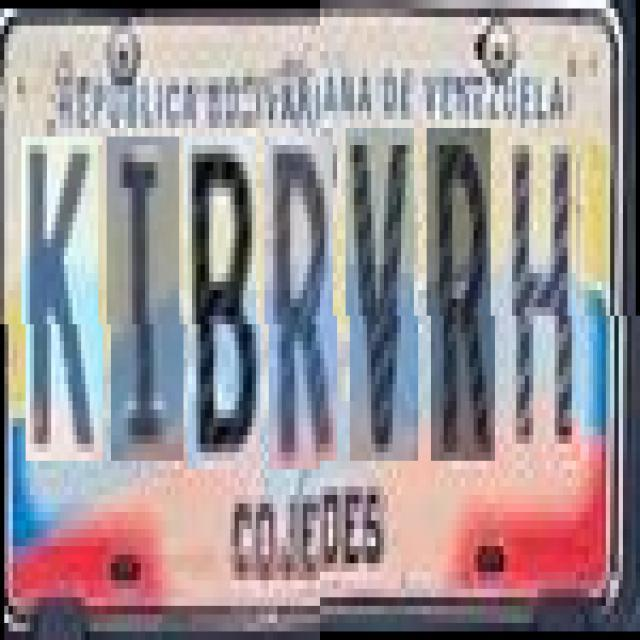B: (188, 137, 260, 470)
H: (508, 137, 580, 470)
I: (110, 136, 183, 461)
K: (26, 136, 102, 461)
R: (268, 137, 338, 470), (431, 137, 495, 470)
V: (350, 137, 418, 470)
